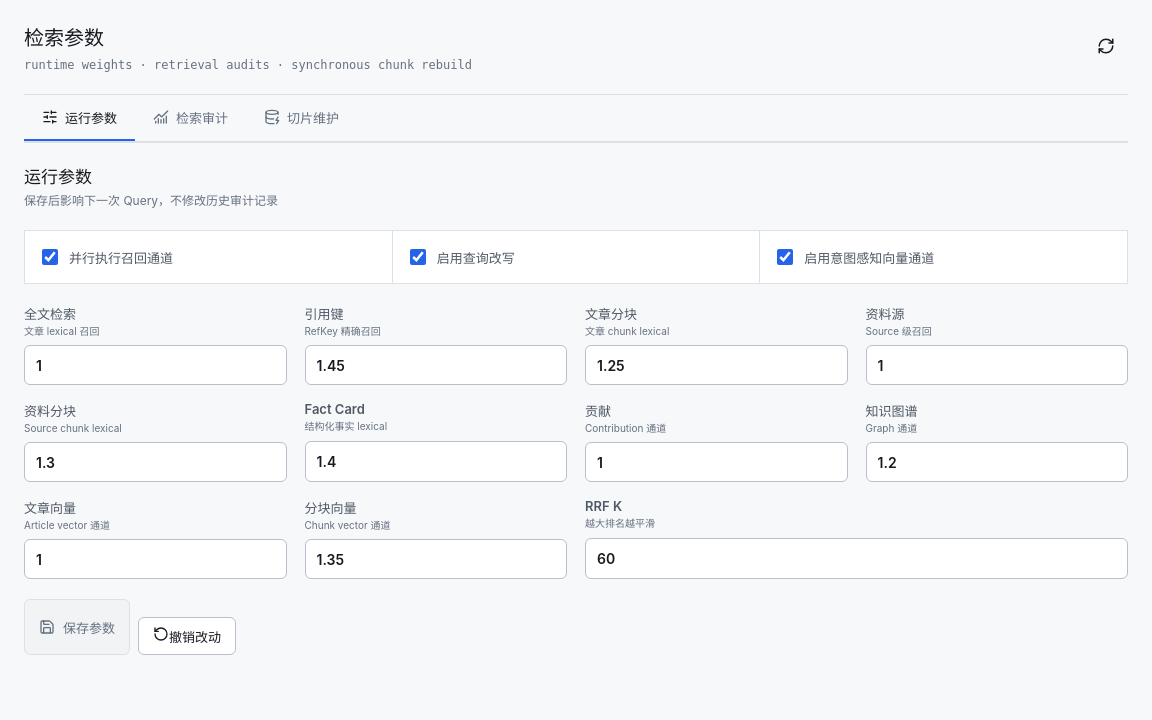
Test case: retrieval settings page › validates nonnegative weights and a positive integer RRF K before writing
Replace the text in the number field labelled "RRF K" with "0" at (856, 558), box [585,538,1128,579]
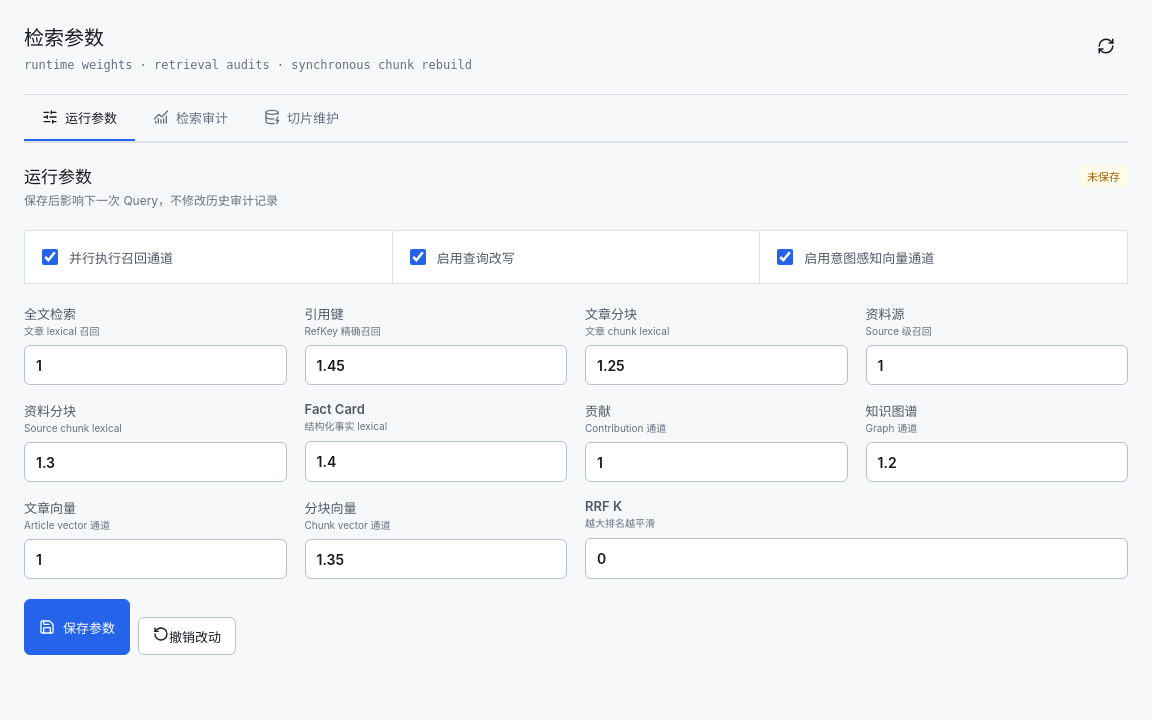
Click the button "保存参数" at (77, 627), box [24,599,130,655]
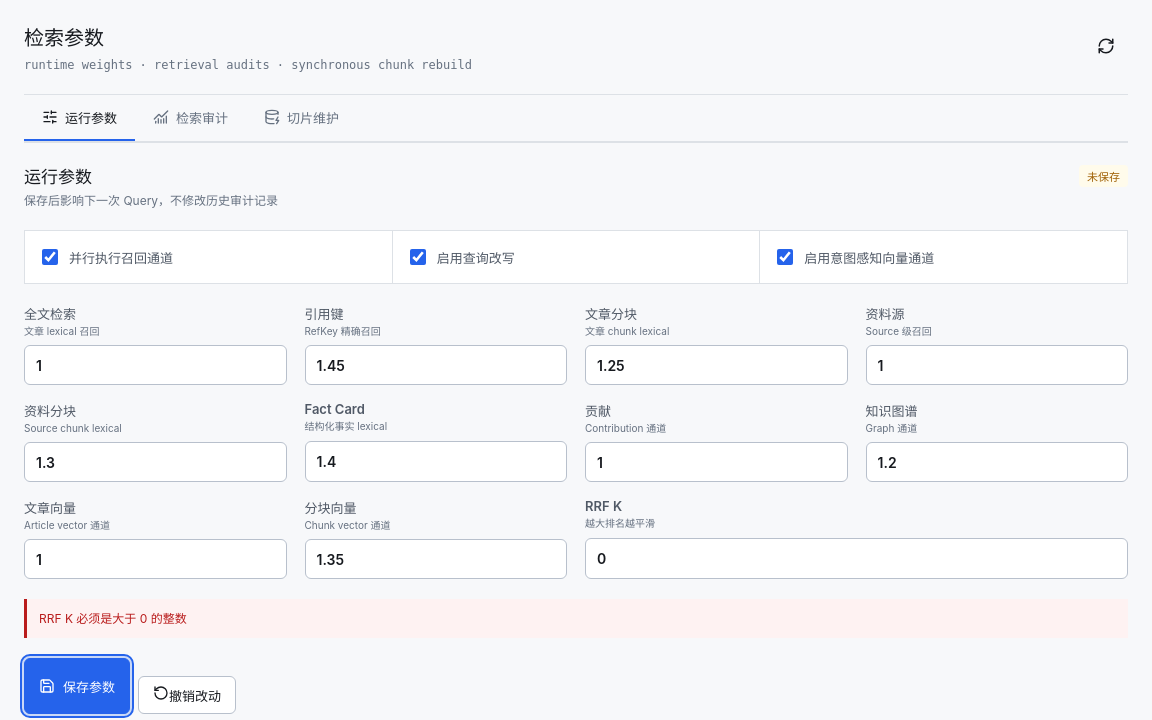
Expected: the message reads "RRF K 必须是大于 0 的整数", [39,611,187,626]
